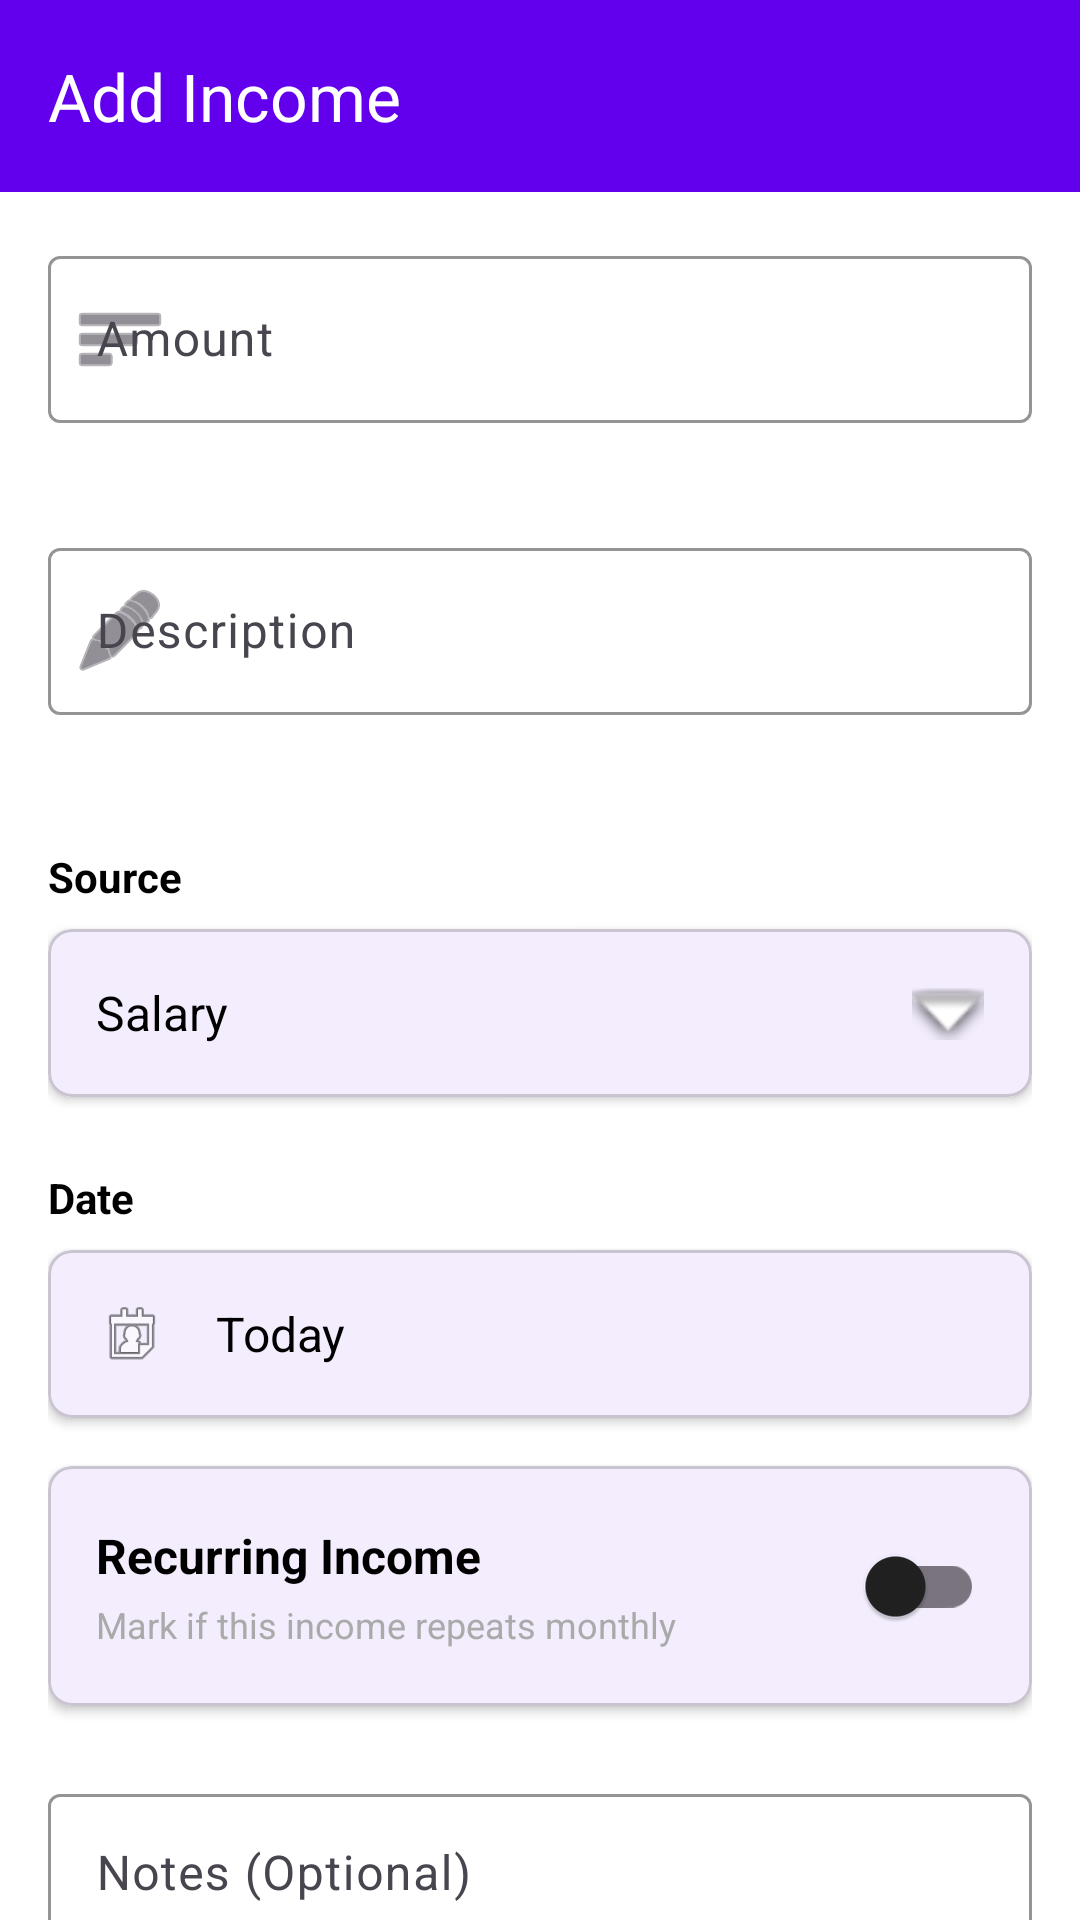

Named icons in this screenshot (1080x1920) and their bounding boxes, (x1, y1, x2, y2):
Calendar: (108, 1307, 156, 1360)
Select: (912, 989, 984, 1038)
